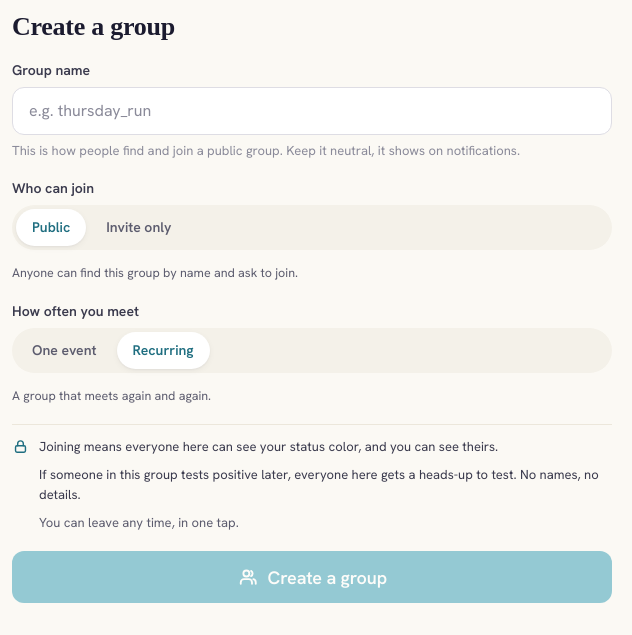
GroupCreate › blocks submit while a public name reads taken
In the field labelled "Group name": (312, 111) [12,87,612,135], type "thursday_run"
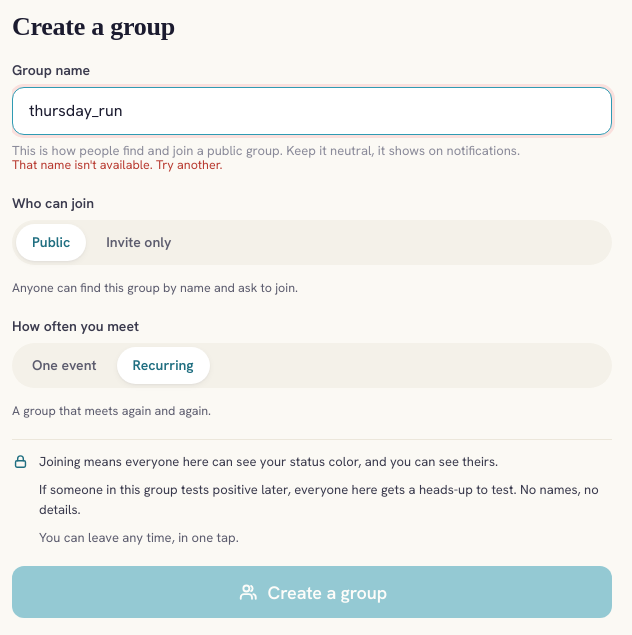
Check: the button "Create a group" is disabled, box [12,566,612,618]
Check: the text "That name isn't available. Try another." is shown, box [12,156,222,173]
